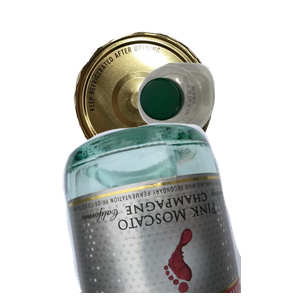glass: (60, 120, 300, 300)
metal: (71, 29, 276, 193)
plastic: (135, 60, 300, 184)
trash: (65, 145, 242, 300)
